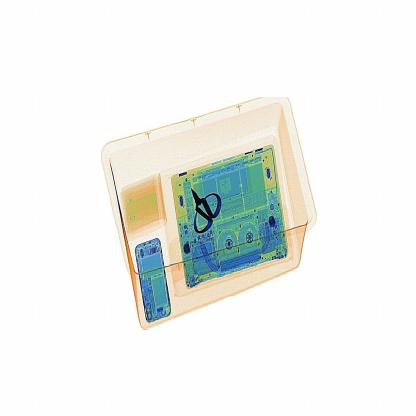gun: (186, 188, 222, 234)
